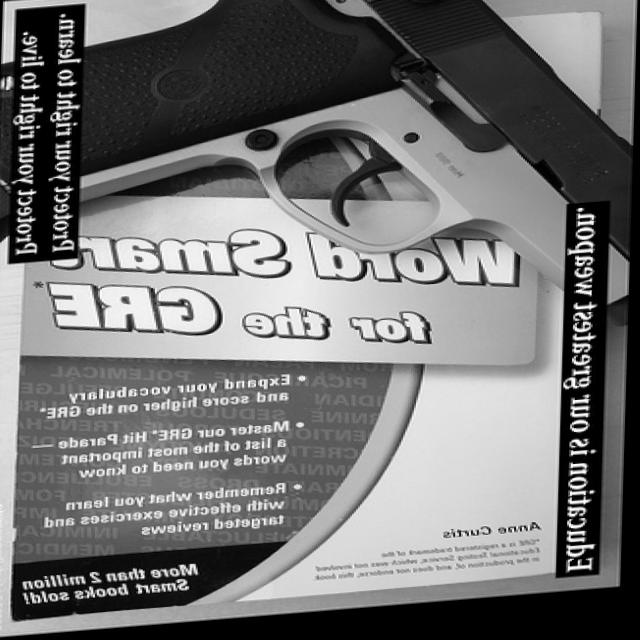handgun: (0, 0, 640, 380)
